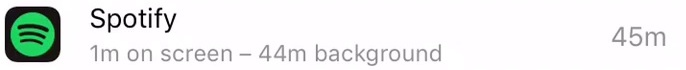name: (83, 4, 191, 35)
time: (253, 35, 312, 70), (86, 41, 127, 68)
